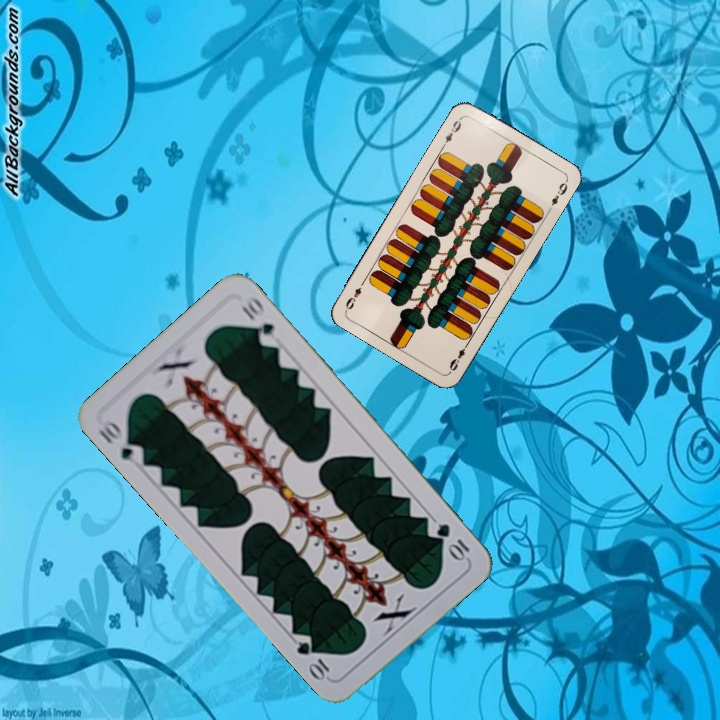E9: (438, 113, 465, 150), (445, 338, 472, 374)
G10: (94, 417, 147, 468), (432, 519, 472, 563)
